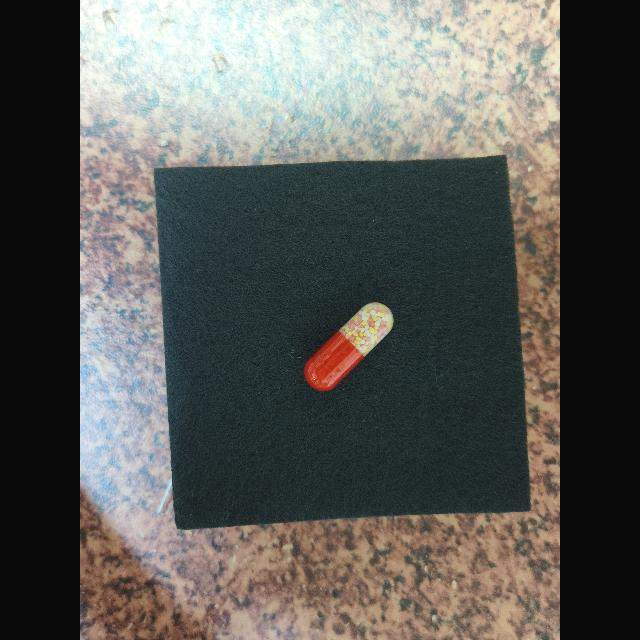Intact Capsule: (304, 302, 394, 391)
